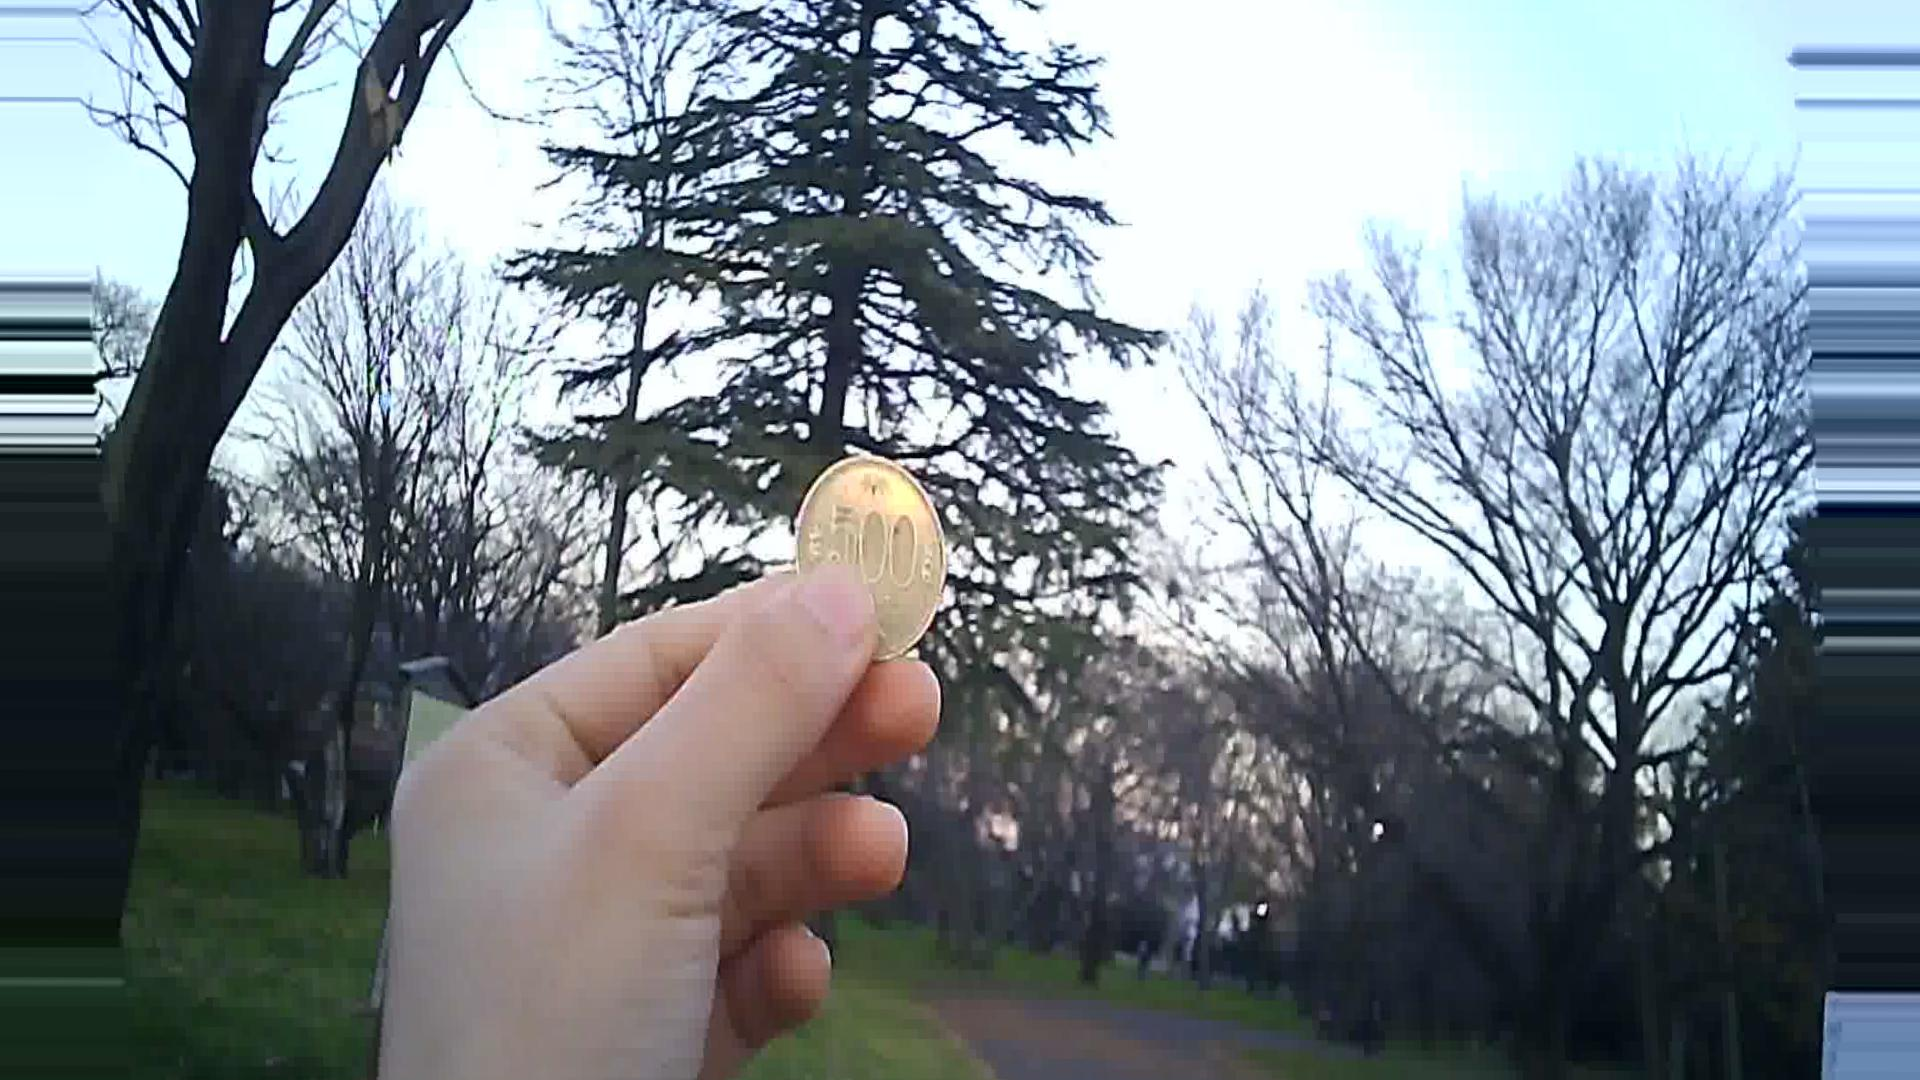500 Yen: (783, 450, 947, 679)
